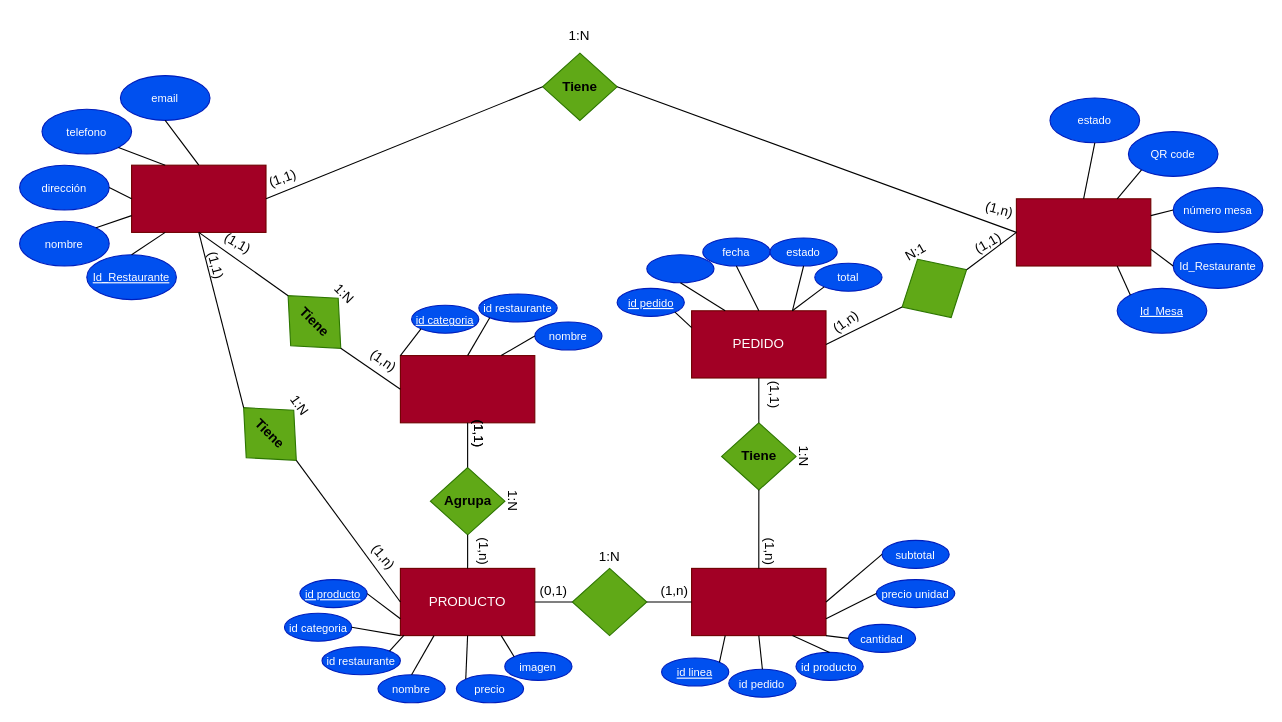
The diagram is 1282 pixels wide and 722 high, and some of its shapes have lost their labels. The centre of each missing label's shape, as x and y in pixels:
Aparece: pixel 609 601
CATEGORIA: pixel 467 388
Hace: pixel 934 287
id mesa: pixel 680 268
LINEA PEDIDO: pixel 758 601
MESA: pixel 1083 232
RESTAURANTE: pixel 198 198
